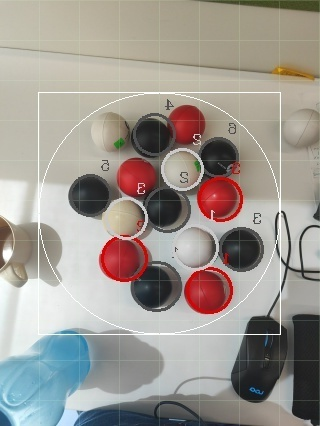Pelota blanca: (0, 214, 33, 288), (173, 225, 217, 270), (101, 196, 148, 238), (37, 220, 65, 288), (162, 148, 204, 190), (90, 110, 132, 152), (282, 108, 320, 147), (295, 225, 320, 283)
Pelota negra: (231, 326, 289, 403), (130, 260, 183, 312), (146, 185, 193, 235), (130, 110, 177, 158), (66, 172, 113, 219), (220, 225, 265, 272), (199, 134, 241, 176), (74, 406, 161, 425)
Pelota roja: (183, 265, 236, 315), (98, 236, 153, 283), (197, 174, 246, 224), (117, 156, 159, 198), (167, 103, 207, 144)
